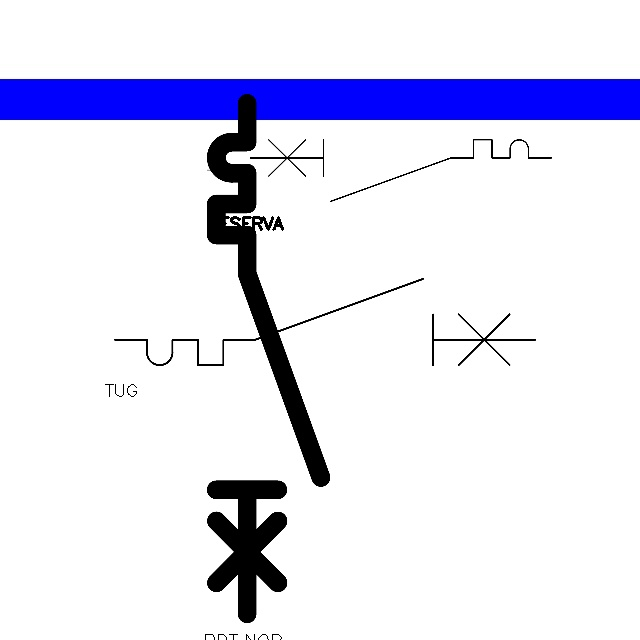interruptor_termomagnetico: (203, 90, 334, 627), (104, 268, 546, 376), (242, 132, 559, 209)
